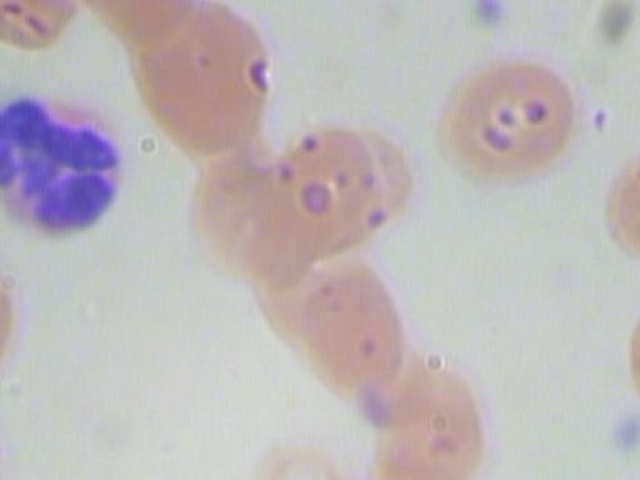Platelets: (603, 406, 640, 458), (466, 0, 520, 34)
RBC: (124, 0, 272, 166), (274, 260, 432, 398), (437, 52, 594, 190), (187, 148, 313, 278), (260, 126, 386, 256), (369, 360, 489, 480), (227, 417, 385, 480), (0, 246, 30, 384), (0, 333, 30, 471)
WBC: (0, 84, 127, 249)
